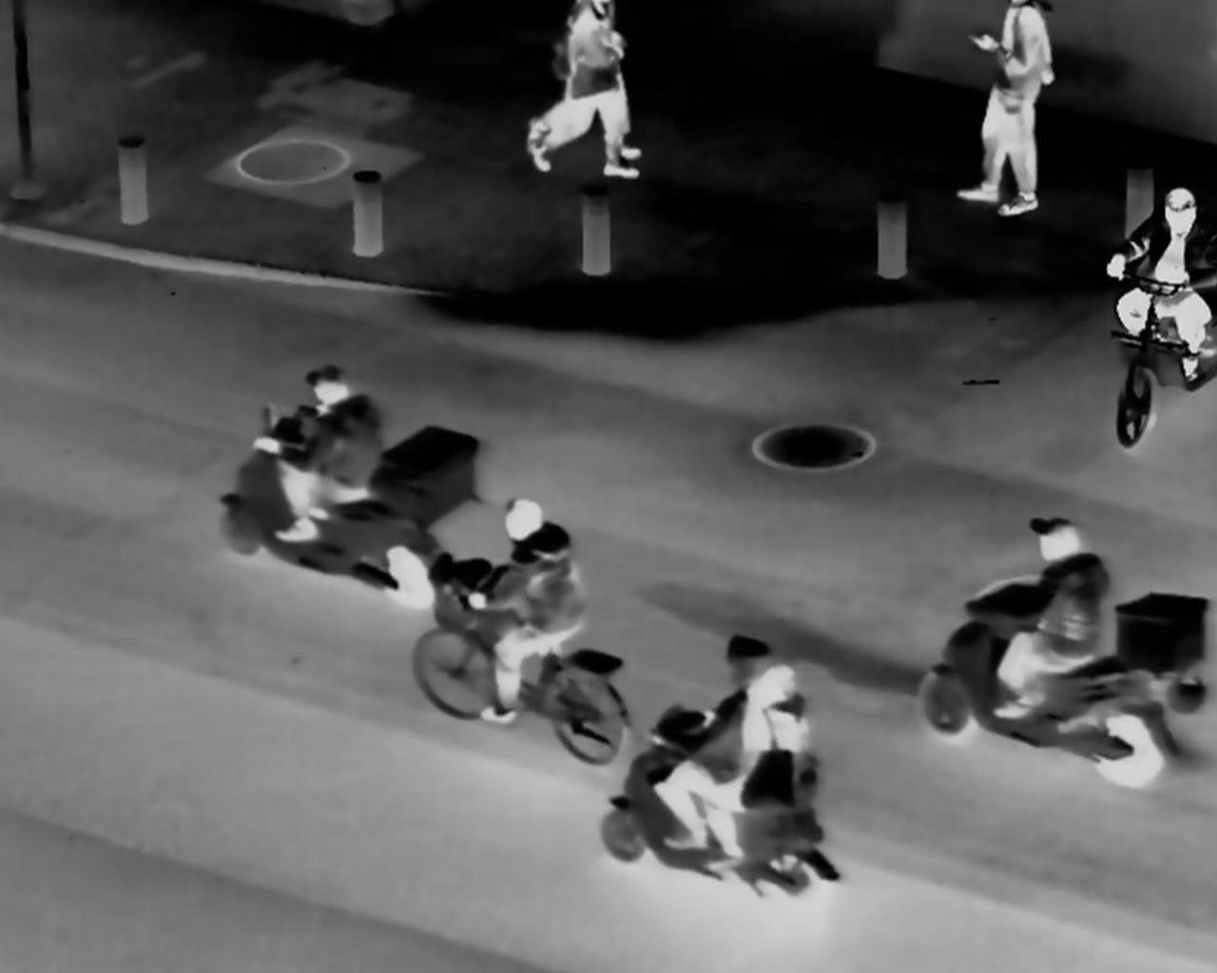person: (642, 628, 800, 856), (474, 489, 589, 739), (255, 357, 386, 541), (1004, 511, 1113, 720), (1113, 169, 1209, 386), (537, 3, 645, 187)
